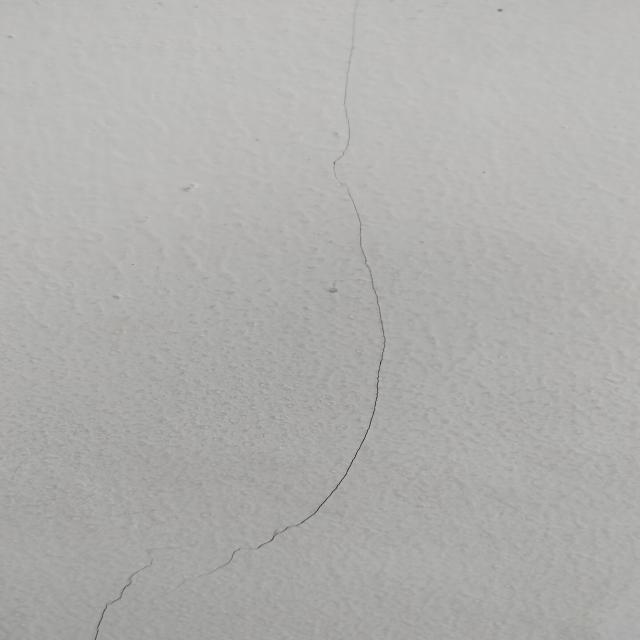Crack: (180, 2, 414, 584)
